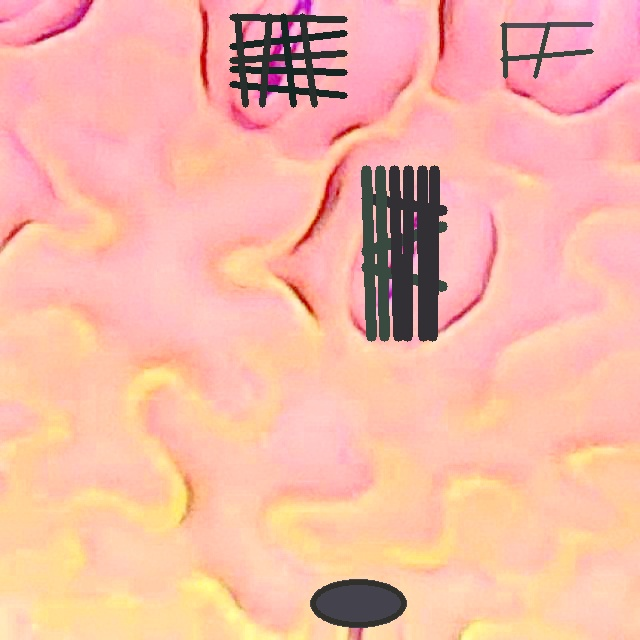close: (500, 22, 593, 78)
open: (361, 166, 447, 341), (229, 13, 347, 107), (311, 579, 406, 626)
